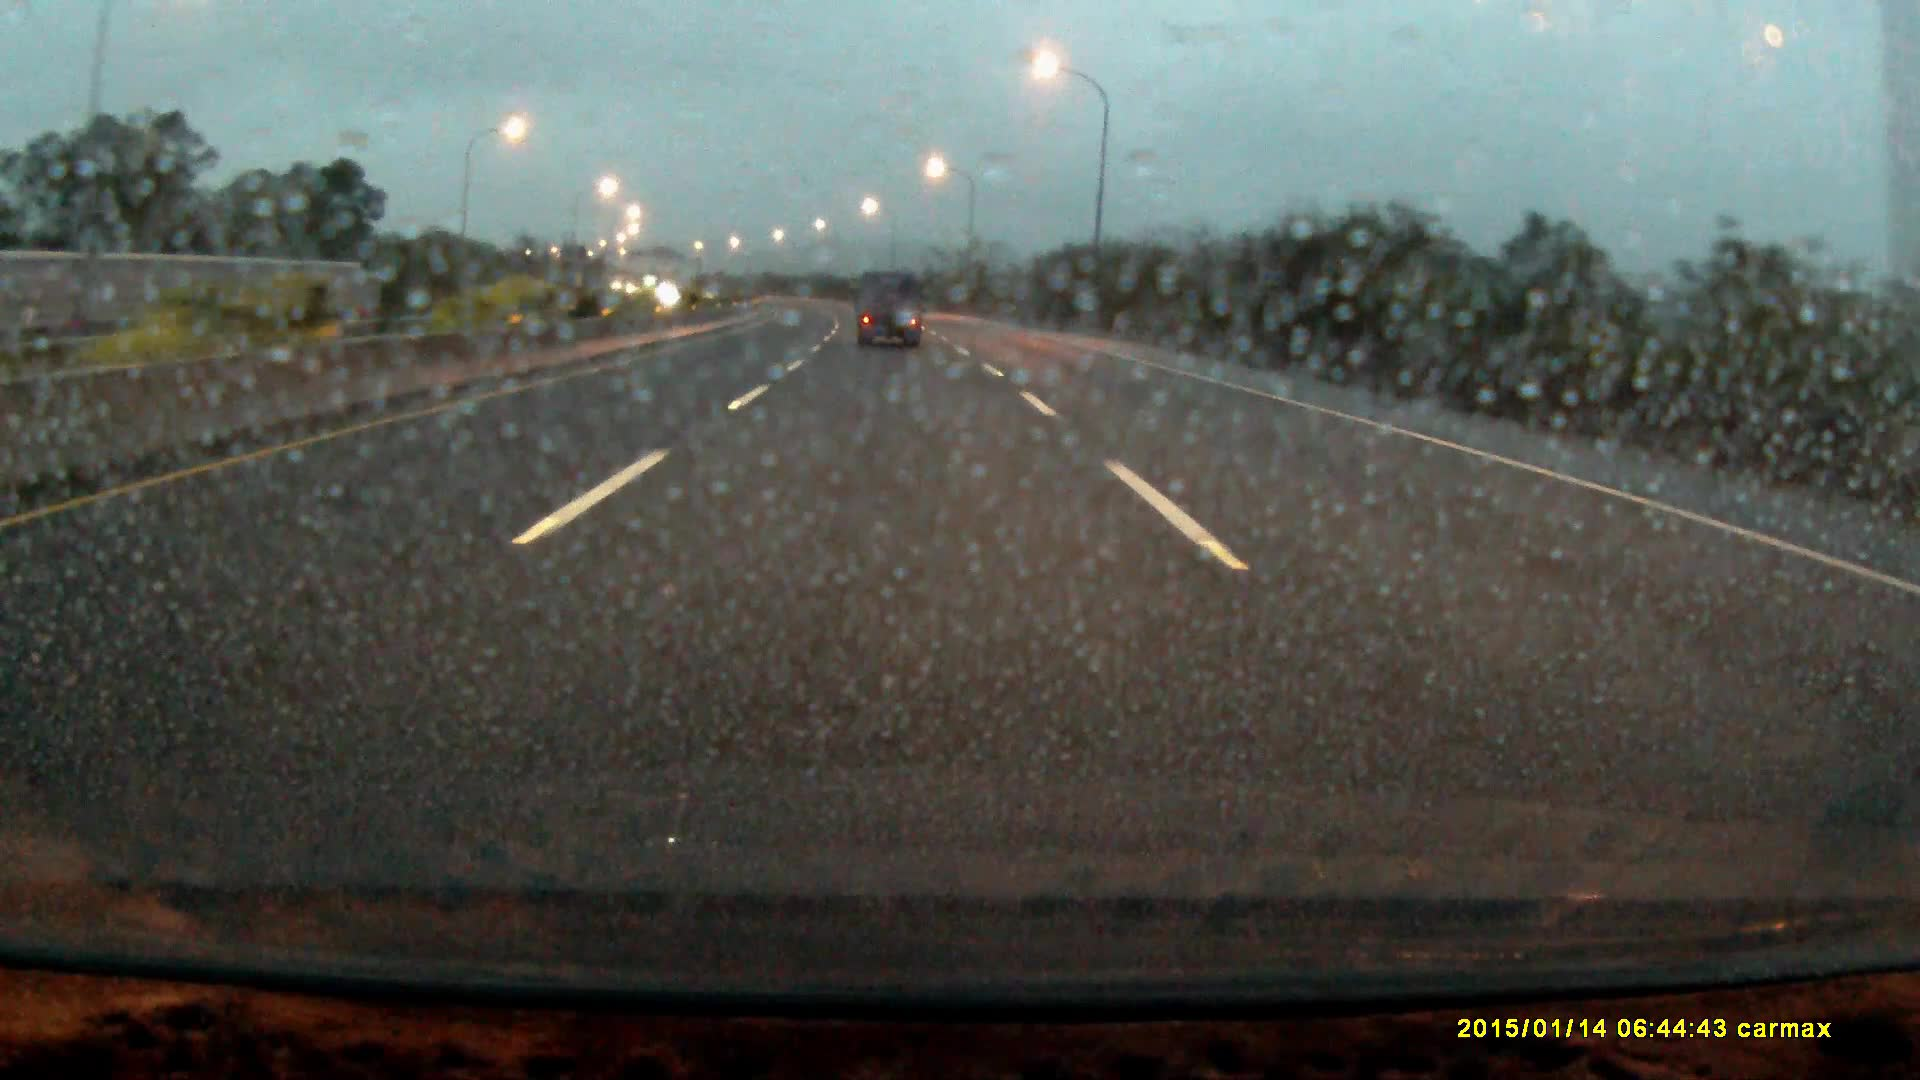vehicle: (853, 272, 923, 352)
